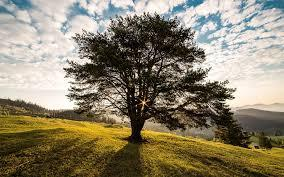tree: (64, 14, 238, 144)
